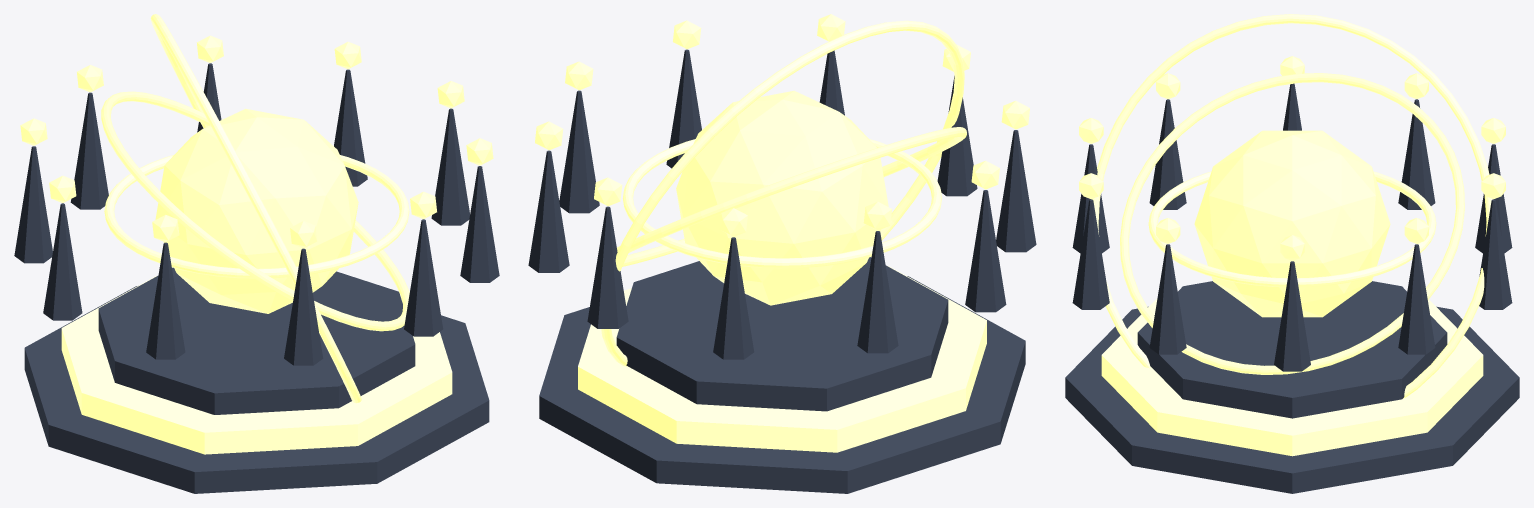
The model's file is gpu-blender-v12.glb.
3 views of the same model, side by side, from view 1: azimuth 30°, elevation 25°; view 2: azimuth 150°, elevation 25°; view 3: azimuth 270°, elevation 25° (orthographic). The views are drawn at different scales.
Visible parts, largest first — view 1: Cylinder.002, SovereignCore_mcp-lens, Cylinder, Cylinder.001, Torus.001, Torus, Torus.002, Cone.004, Cone.005, Cone.008, Cone.006, Cone.007 (+15 smaller); view 2: Cylinder.002, SovereignCore_mcp-lens, Cylinder, Cylinder.001, Torus.002, Torus, Torus.001, Cone.004, Cone.005, Cone.006, Cone.003, Cone.001 (+14 smaller); view 3: SovereignCore_mcp-lens, Cylinder.002, Cylinder, Cylinder.001, Torus.001, Torus.002, Torus, Cone.001, Cone.009, Cone, Cone.008, Cone.002 (+14 smaller).
Part boxes in pixels (x1,y1,x2,y2): Cylinder.002: [98, 267, 415, 414]; SovereignCore_mcp-lens: [155, 108, 358, 313]; Cylinder: [24, 286, 489, 493]; Cylinder.001: [61, 276, 452, 454]; Torus.001: [101, 91, 409, 331]; Torus: [104, 155, 409, 278]; Torus.002: [150, 14, 361, 403]; Cone.004: [14, 146, 52, 263]; Cone.005: [43, 203, 82, 320]; Cone.008: [404, 219, 443, 336]; Cone.006: [146, 242, 185, 359]; Cone.007: [284, 248, 323, 365]; Cylinder.002: [616, 257, 948, 411]; SovereignCore_mcp-lens: [676, 90, 888, 305]; Cylinder: [539, 276, 1025, 493]; Cylinder.001: [578, 266, 986, 452]; Torus.002: [601, 20, 964, 366]; Torus: [623, 139, 941, 268]; Torus.001: [617, 127, 966, 266]; Cone.004: [857, 231, 898, 353]; Cone.005: [965, 190, 1006, 312]; Cone.006: [996, 130, 1036, 252]; Cone.003: [713, 237, 754, 359]; Cone.001: [528, 150, 569, 272]; SovereignCore_mcp-lens: [1194, 130, 1390, 317]; Cylinder.002: [1137, 281, 1447, 418]; Cylinder: [1065, 306, 1519, 493]; Cylinder.001: [1101, 298, 1483, 456]; Torus.001: [1120, 73, 1464, 374]; Torus.002: [1092, 14, 1492, 398]; Torus: [1148, 171, 1436, 287]; Cone.001: [1398, 244, 1435, 354]; Cone.009: [1149, 244, 1186, 354]; Cone: [1274, 261, 1310, 371]; Cone.008: [1072, 199, 1109, 309]; Cone.002: [1479, 199, 1512, 309].
Bounding box in the file's own units: 4.41 × 3.72 × 4.4.
